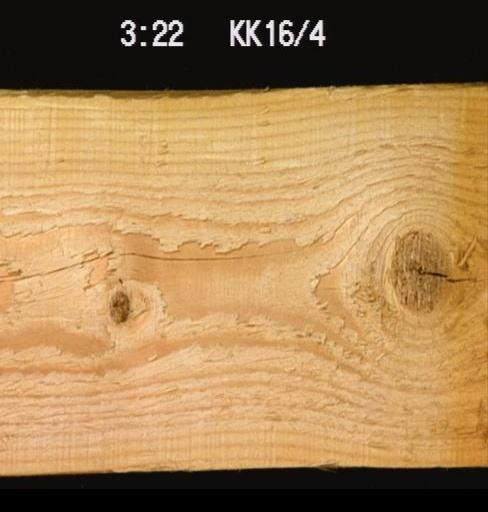sound_knot: (386, 224, 486, 320), (104, 287, 131, 325)
split: (0, 226, 340, 285)
wave: (0, 85, 384, 110)
